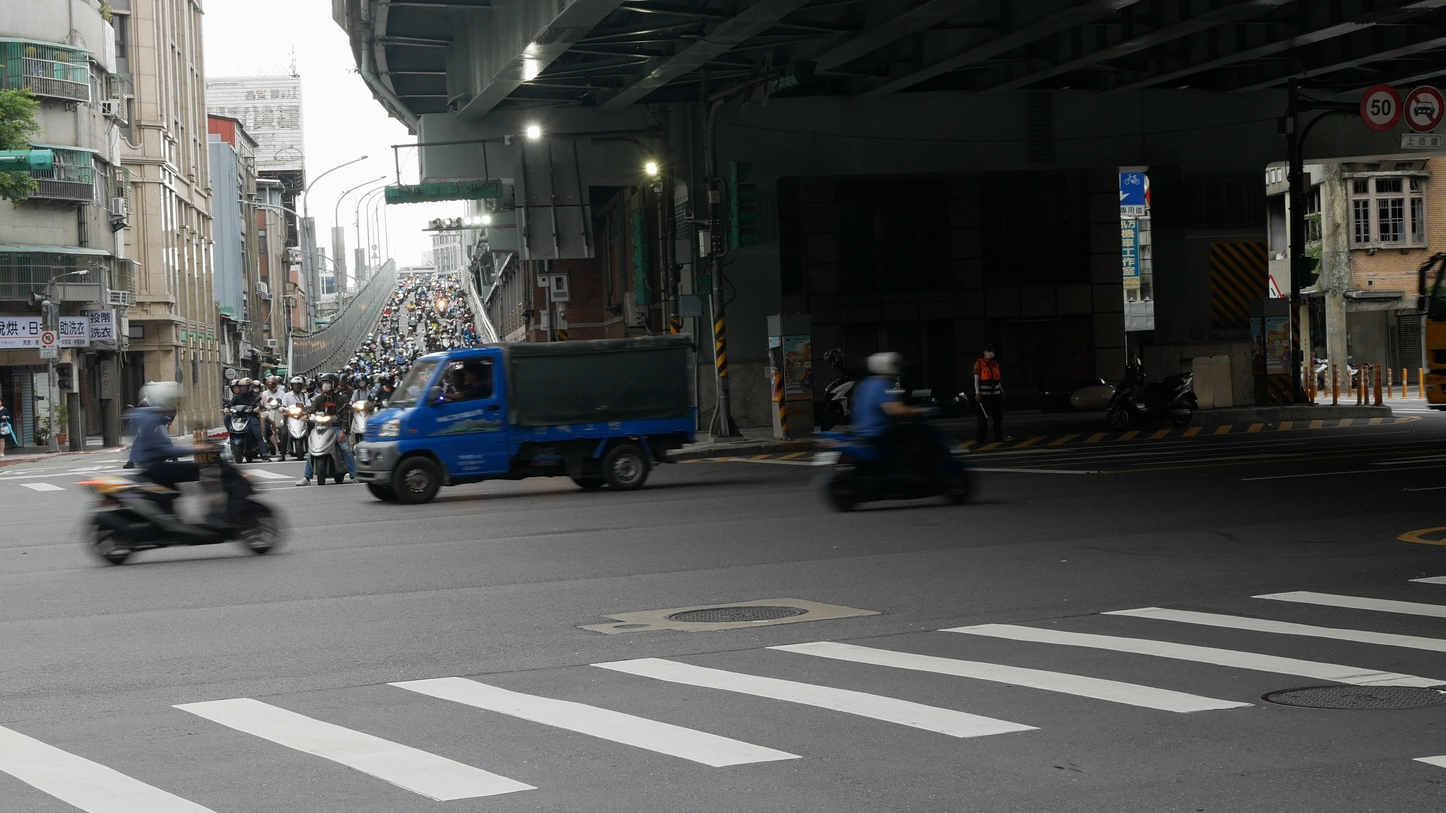driver: (73, 382, 288, 566), (811, 351, 978, 514), (295, 372, 362, 486), (220, 377, 272, 464), (342, 372, 383, 457), (276, 376, 314, 462)
helmet: (138, 382, 184, 424), (866, 352, 908, 378), (320, 374, 338, 393), (238, 377, 254, 395), (354, 372, 370, 390), (290, 376, 305, 393), (265, 375, 278, 394), (304, 379, 317, 393), (383, 373, 395, 388), (229, 379, 240, 394), (338, 374, 348, 387), (252, 380, 261, 393)
